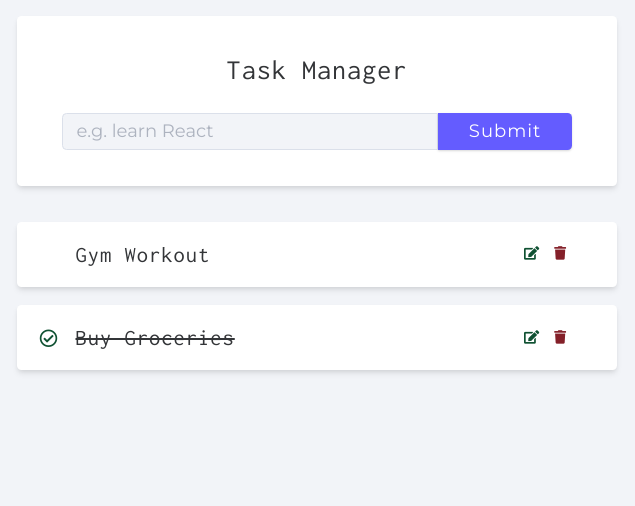
Test case: TaskList() › should add new element when click on submit
Expected: the heading "Gym workout" is shown, [62,240,210,269]
Expected: the heading "Buy groceries" is shown, [62,323,235,352]
Step 1. Type "New Task" into the field with placeholder "e.g. learn React" → (250, 132), box [62,113,438,150]
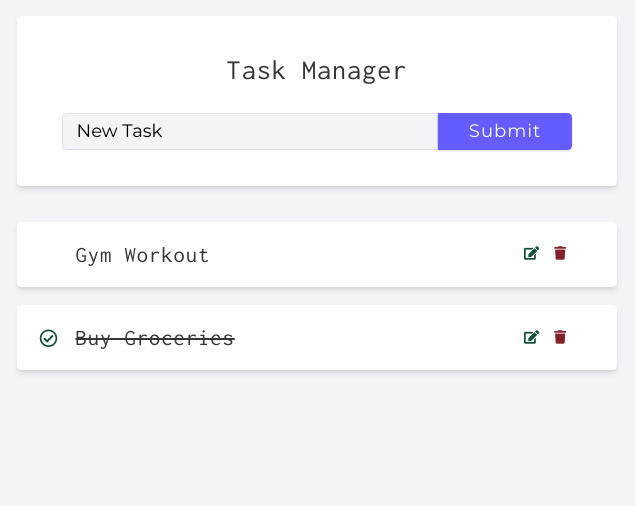
Step 2. Click the button "Submit" → (505, 132), box [438,113,572,150]
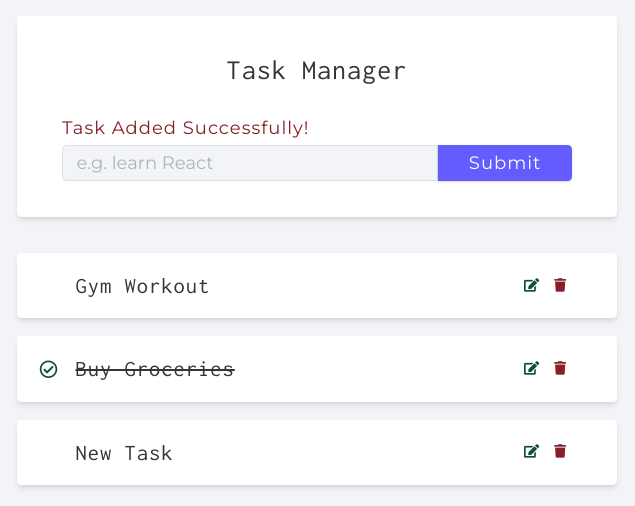
Now the field with placeholder "e.g. learn React" is empty, box [62,145,438,181]
Now the text "Task added successfully!" is shown, box [62,117,310,139]
Now the heading "New Task" is shown, box [62,438,174,467]
